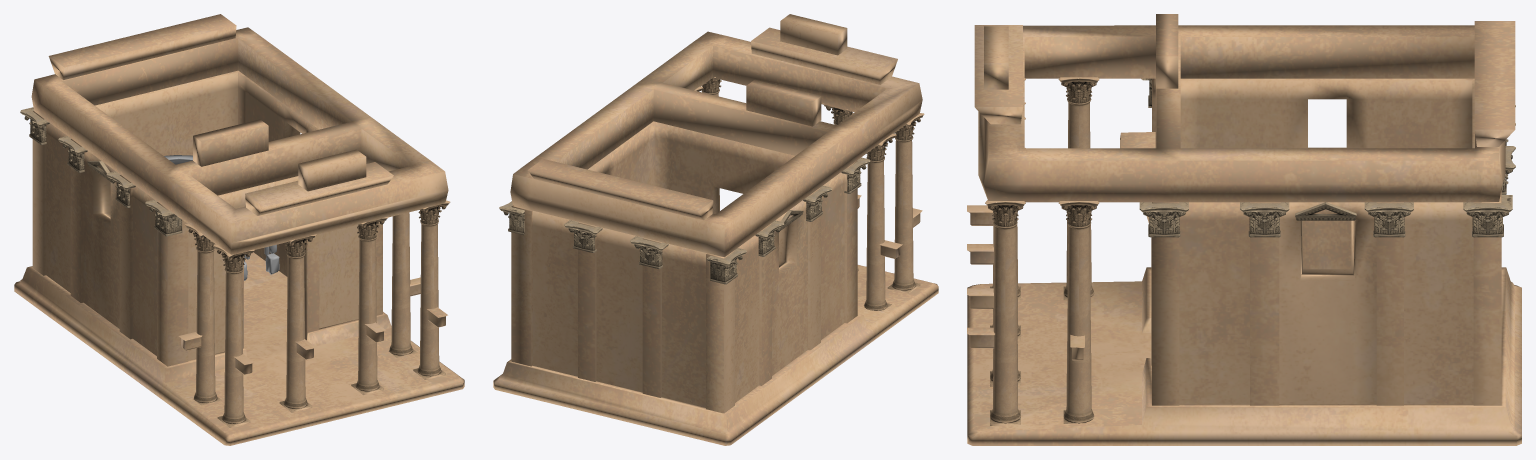
The model's file is baalshamin.fbx.
3 renders of one model, left to right at view 1: azimuth 30°, elevation 25°; view 2: azimuth 150°, elevation 25°; view 3: azimuth 270°, elevation 25°, orthographic. The views are drawn at different scales.
Parts seen in each view (by area): view 1: temple, columns, pillars_deco, interior; view 2: temple, columns, pillars_deco; view 3: temple, columns, pillars_deco, window.
Boxes of the visible parts, <box> form: temple: <box>14,14,464,445</box>; columns: <box>185,200,450,427</box>; pillars_deco: <box>20,107,182,236</box>; interior: <box>164,155,279,280</box>; temple: <box>493,14,938,445</box>; columns: <box>694,77,924,310</box>; pillars_deco: <box>499,157,870,284</box>; temple: <box>967,14,1521,445</box>; columns: <box>985,77,1099,425</box>; pillars_deco: <box>1139,78,1515,237</box>; window: <box>1295,202,1356,220</box>.
Bounding box in the file's own units: 491 × 478 × 743.
